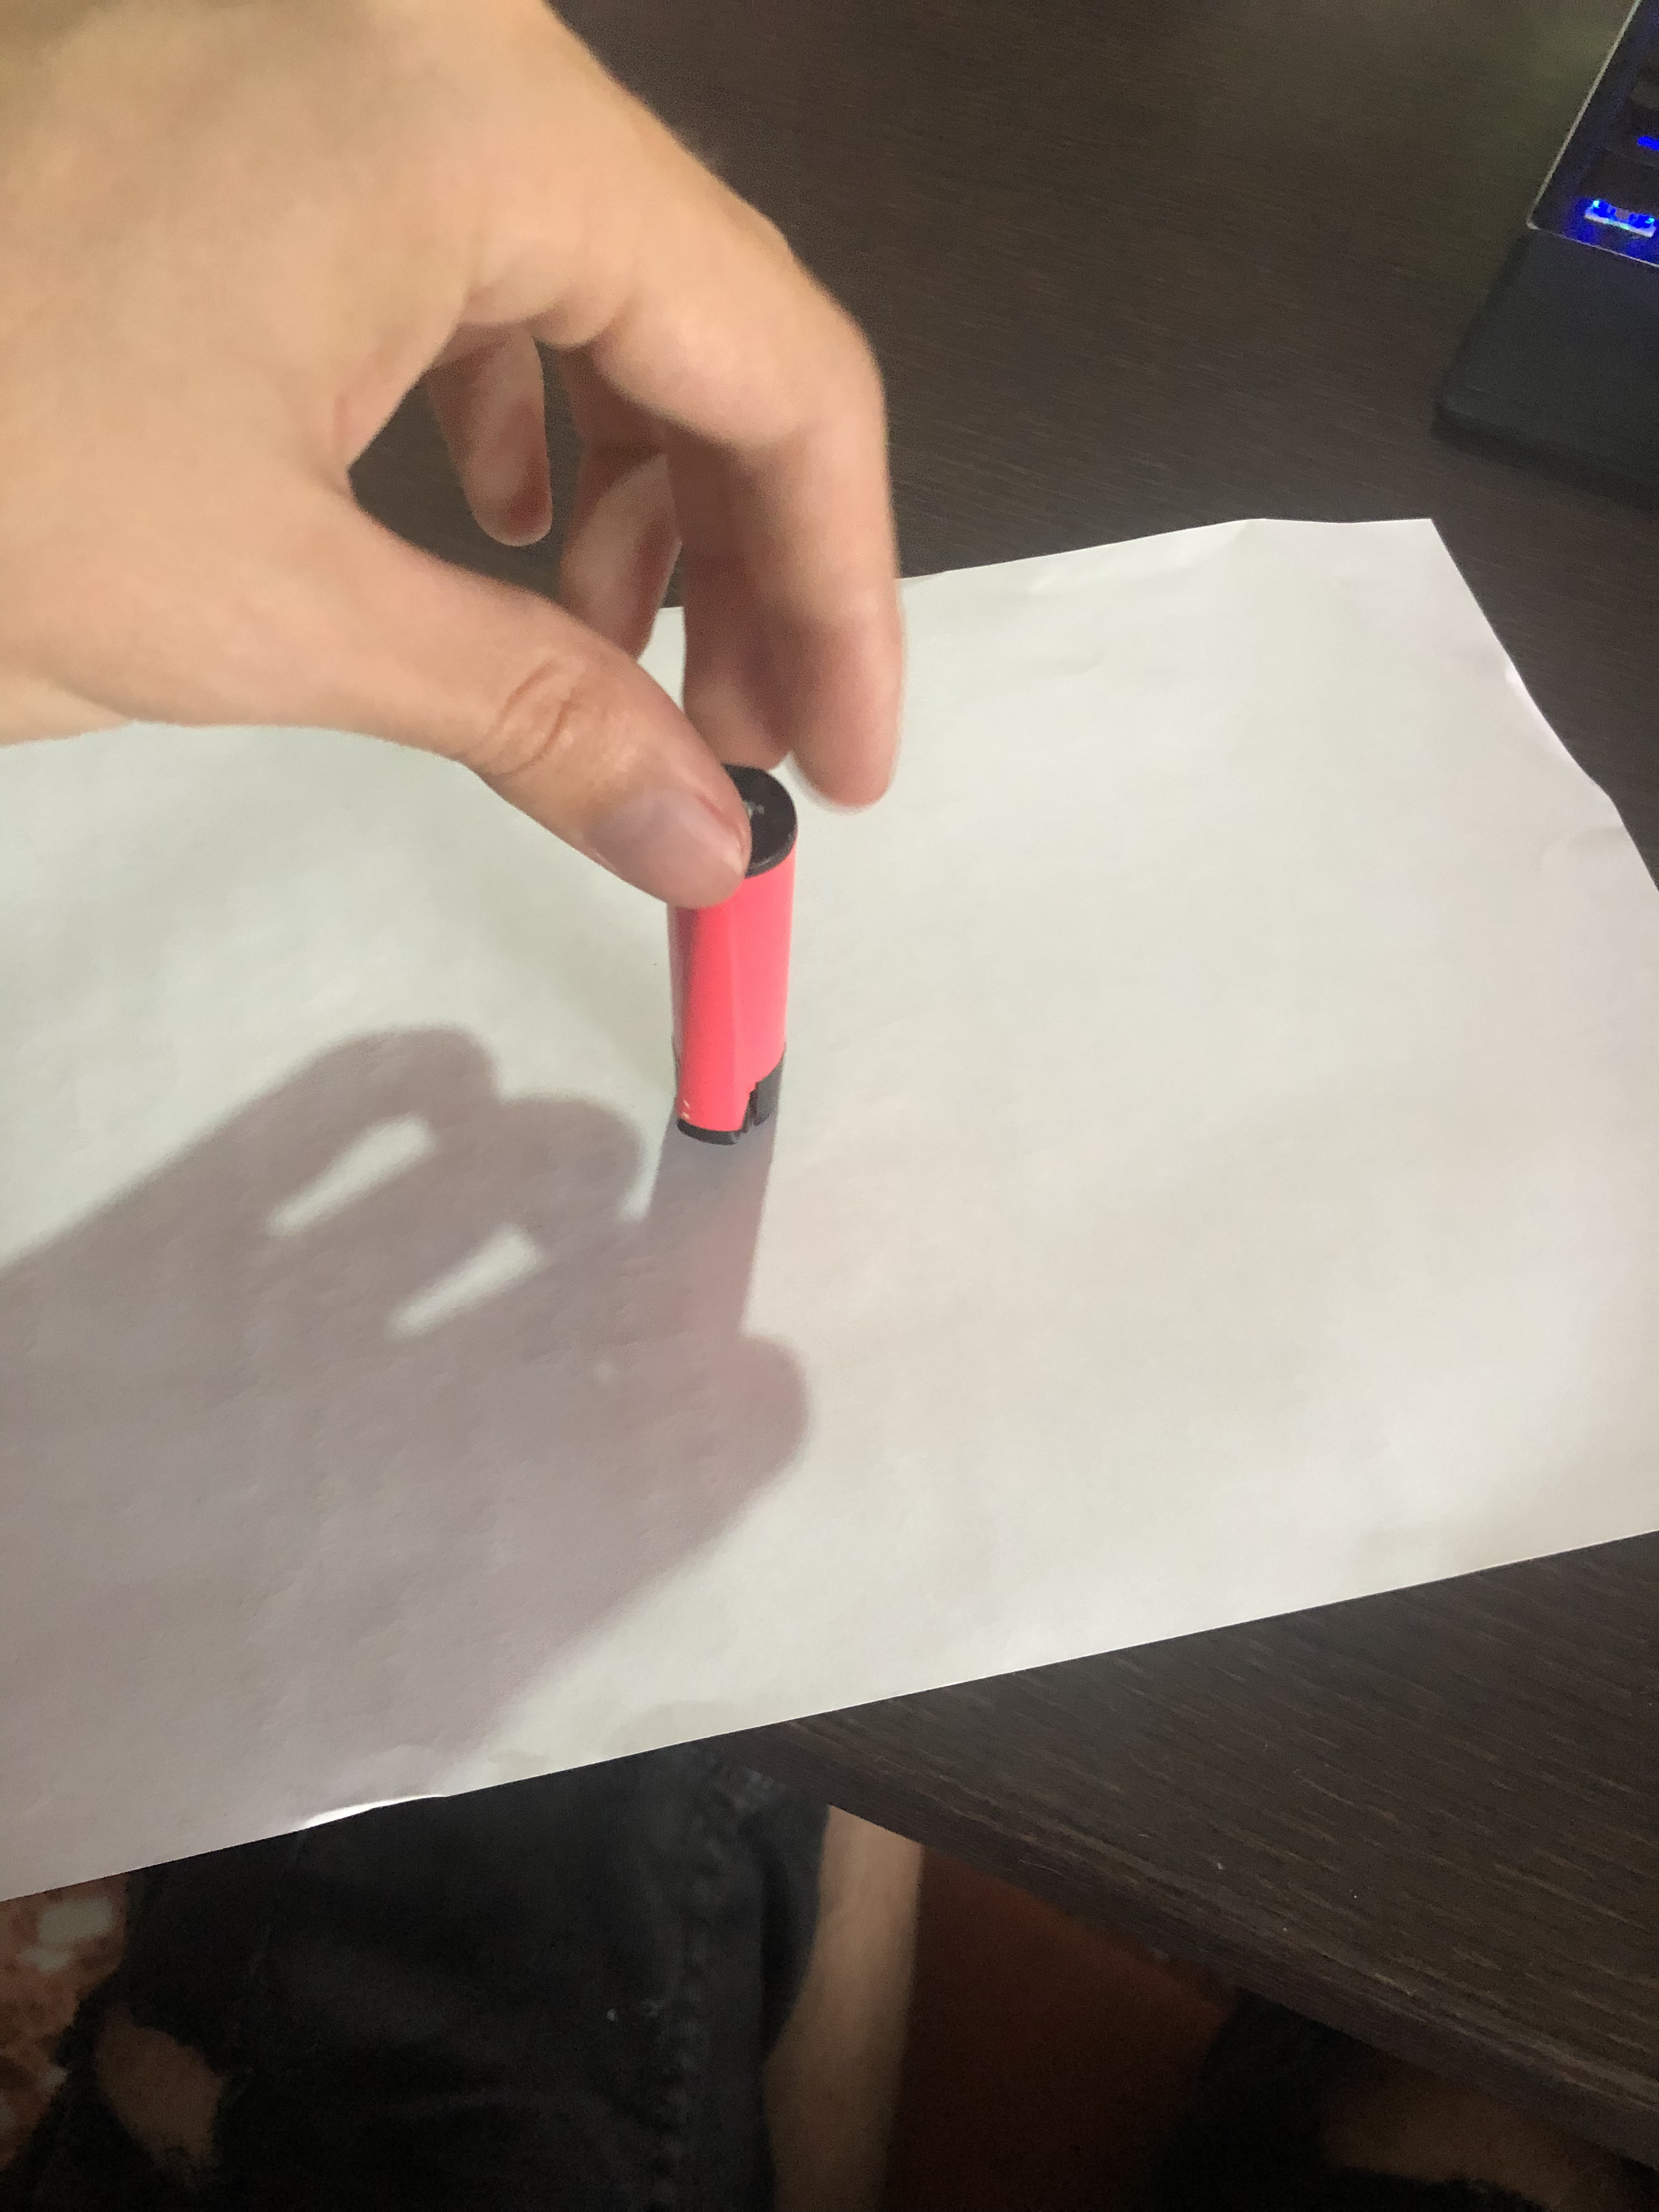Mechero: (660, 763, 805, 1165)
